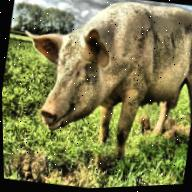boar: (4, 0, 192, 176)
